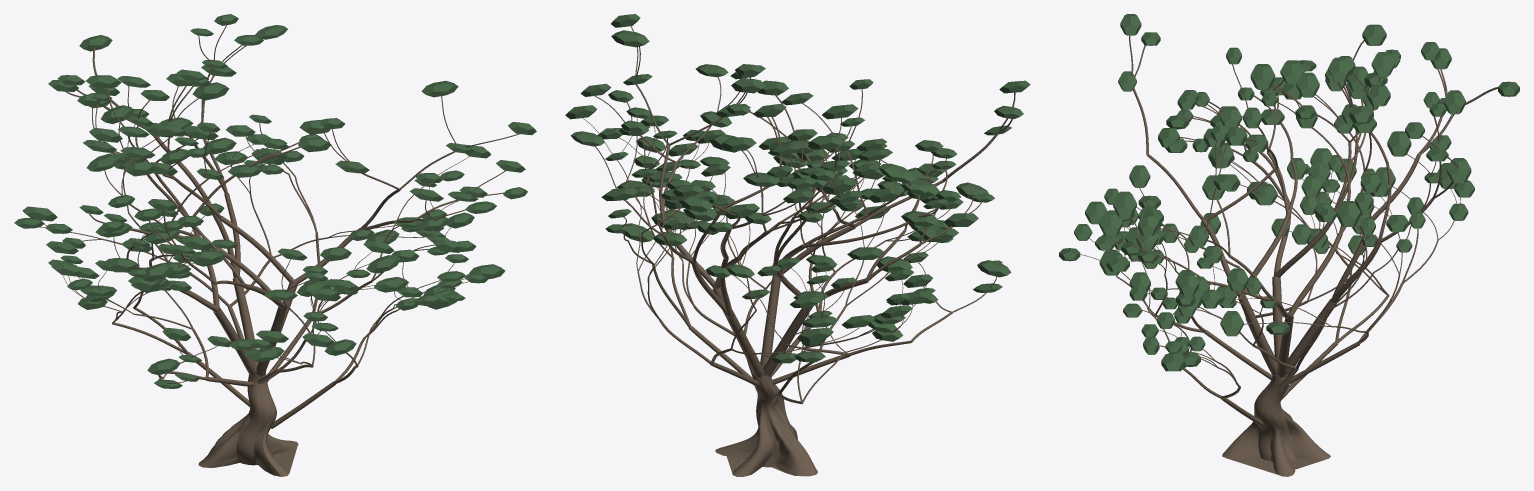
Rendered from small_tree_2026-04-26T08-56-14-863Z.glb.
3 views of the same model, side by side, from view 1: azimuth 30°, elevation 25°; view 2: azimuth 150°, elevation 25°; view 3: azimuth 270°, elevation 25° (orthographic). The views are drawn at different scales.
Parts seen in each view (by area): view 1: rainforest_giant; view 2: rainforest_giant; view 3: rainforest_giant.
Boxes of the visible parts, bbox=[...] form: rainforest_giant: bbox=[14, 14, 536, 476]; rainforest_giant: bbox=[565, 14, 1030, 476]; rainforest_giant: bbox=[1059, 14, 1519, 476].
Size of the model in its own units: 124 by 108 by 121.
